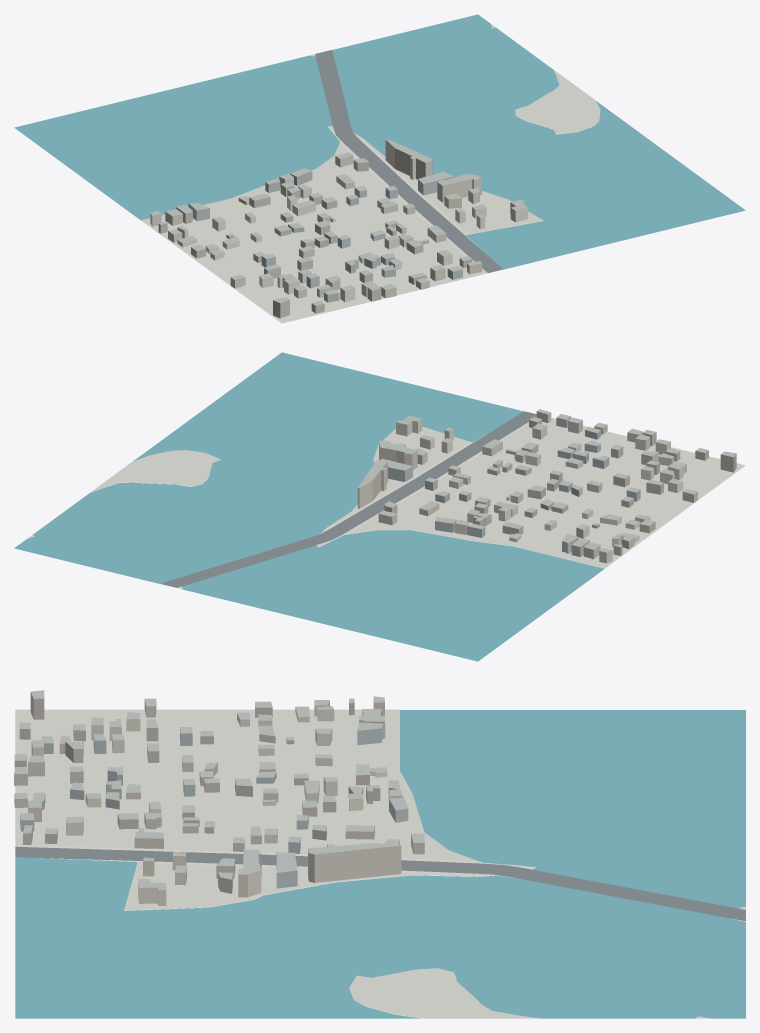
3 views of the same model, one above another, from view 1: azimuth 30°, elevation 25°; view 2: azimuth 150°, elevation 25°; view 3: azimuth 270°, elevation 25° (orthographic). The views are drawn at different scales.
Parts seen in each view (by area): view 1: city; view 2: city; view 3: city.
Boxes of the visible parts, x1=… form: city: x1=14, y1=14, x2=745, y2=323; city: x1=14, y1=352, x2=745, y2=661; city: x1=14, y1=690, x2=745, y2=1018.
Bounding box in the file's own units: 500 × 21.68 × 501.
